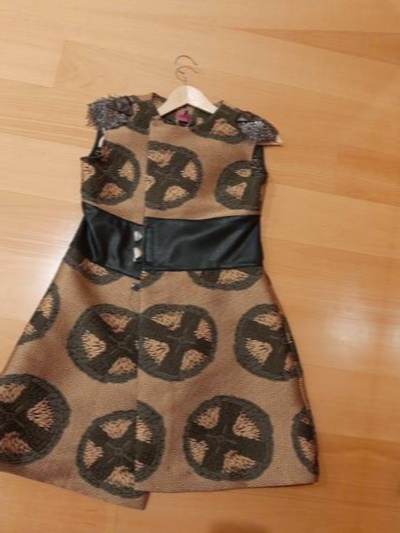Dress: (0, 52, 382, 529), (385, 107, 400, 533), (0, 518, 324, 533)
